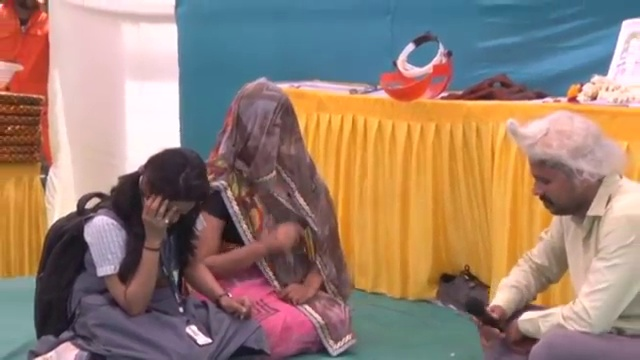helmet: (0, 60, 24, 94)
helmet_off: (516, 115, 610, 218), (230, 80, 303, 168), (133, 153, 206, 231), (4, 1, 41, 22)
person: (34, 147, 269, 360), (200, 83, 355, 359), (470, 114, 640, 360), (0, 0, 53, 91)
